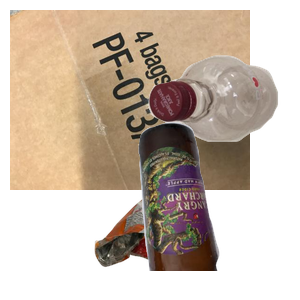cardboard: (10, 10, 250, 190)
glass: (136, 120, 300, 300)
plastic: (146, 53, 300, 187)
trash: (92, 174, 272, 300)
